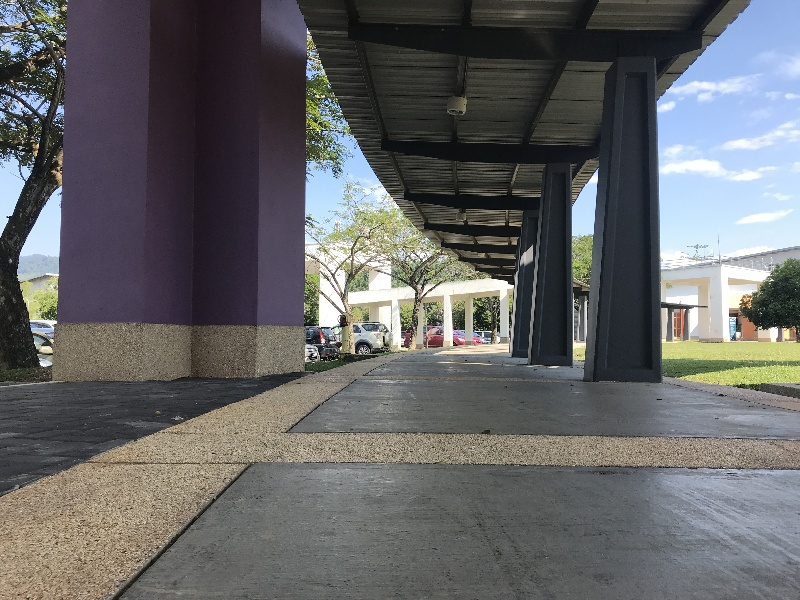Block D Pillar 6: (12, 6, 800, 552)
pillar: (48, 5, 324, 395), (577, 53, 684, 406), (523, 154, 583, 377)
